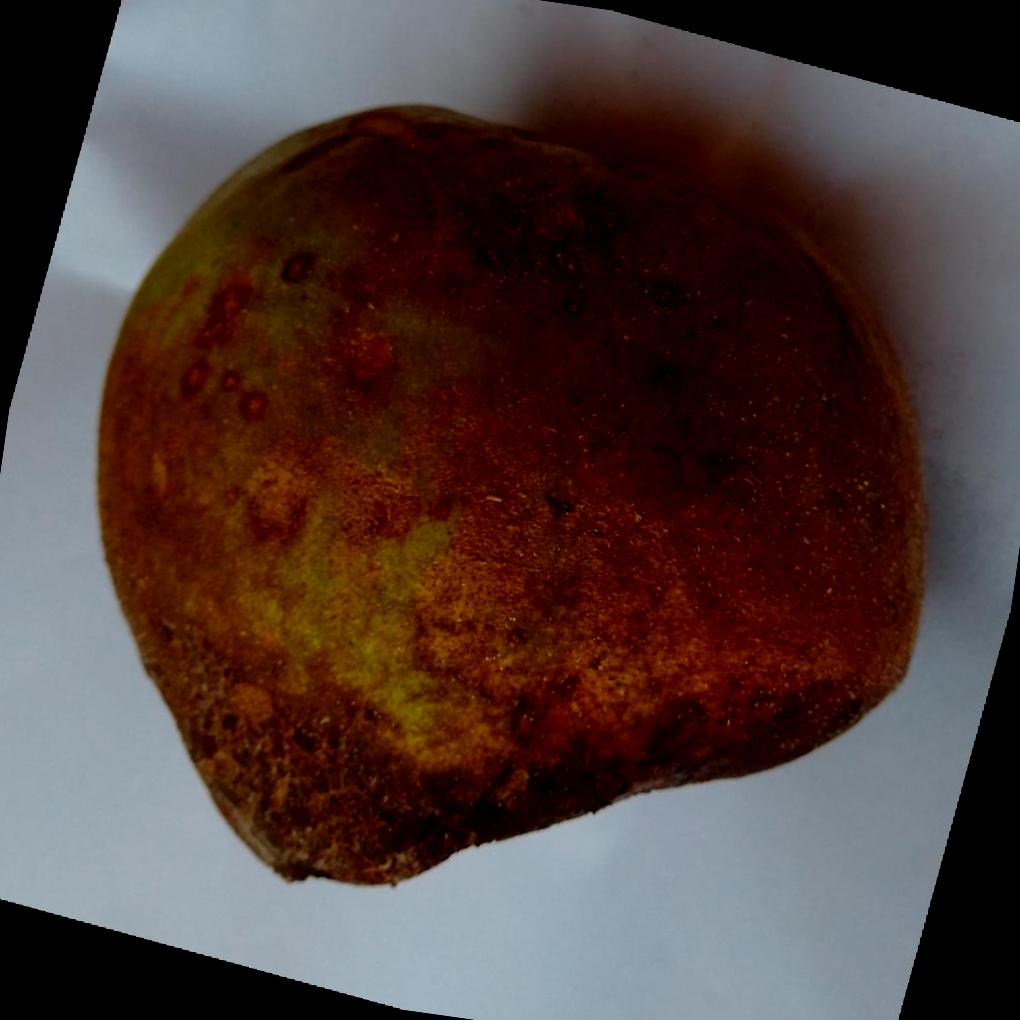FreshOrange: (97, 102, 935, 888)
